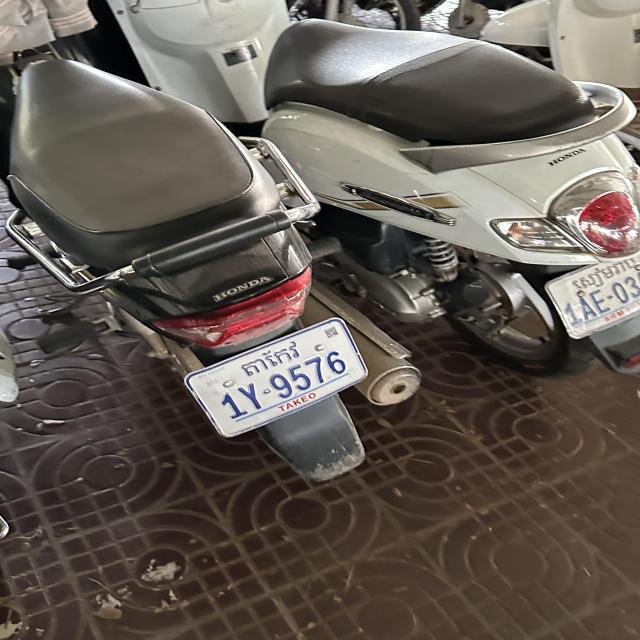Siem_Reap: (572, 254, 639, 290)
Takeo: (240, 337, 299, 377)
